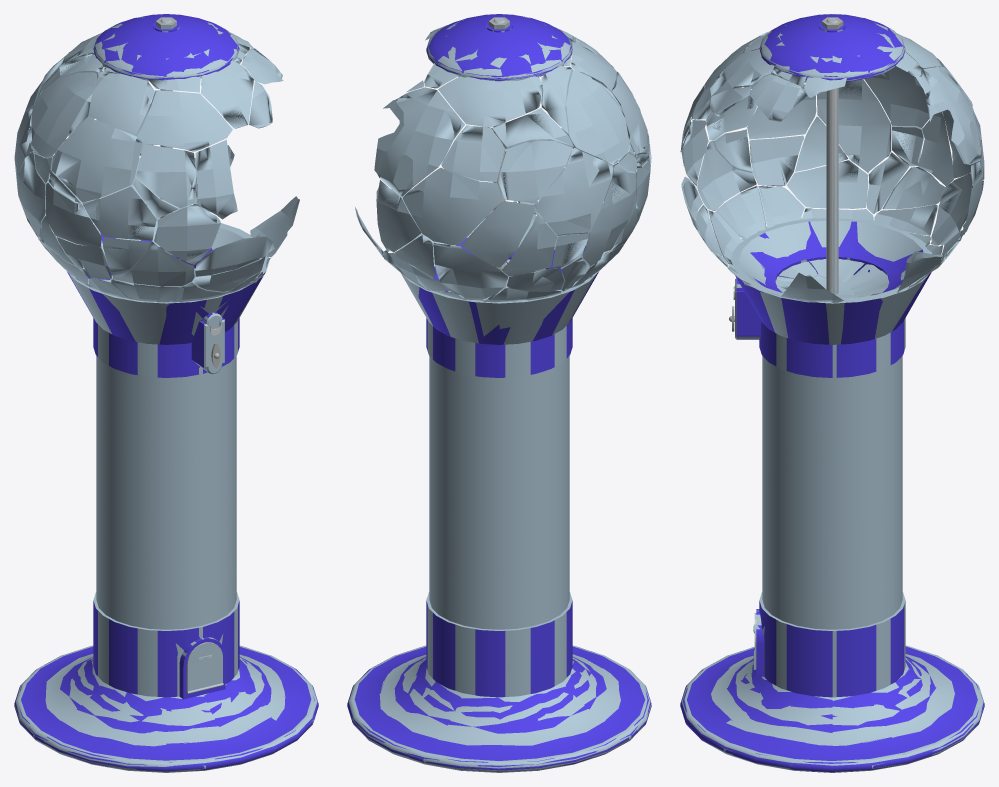
File: gumball-machine-broken-transformed.glb
3 views of the same model, side by side, from view 1: azimuth 30°, elevation 25°; view 2: azimuth 150°, elevation 25°; view 3: azimuth 270°, elevation 25° (orthographic).
Parts seen in each view (by area): view 1: SketchUp.002; view 2: SketchUp.002; view 3: SketchUp.002, SketchUp.004.
Boxes of the visible parts, x1,y1,x2,y2 form: SketchUp.002: (14,14,318,772); SketchUp.002: (347,14,651,772); SketchUp.002: (680,14,984,772); SketchUp.004: (733,88,838,641).
Size of the model in its own units: 0.635 by 1.59 by 0.635.
5 materials, 5 textured.
